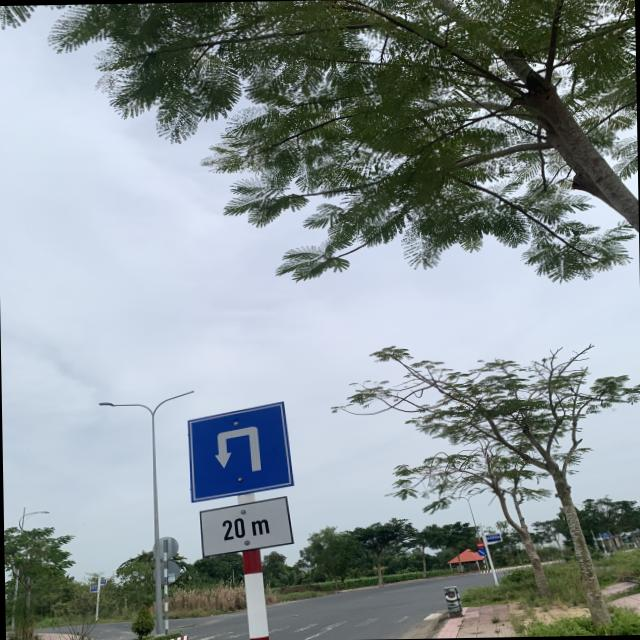Den_Giao_Thong: (185, 400, 292, 499)
